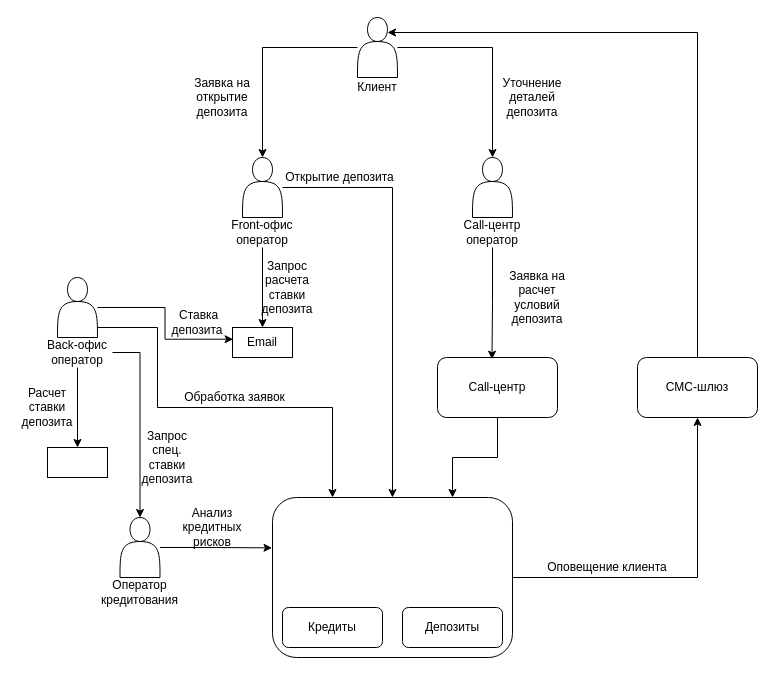
This 775x675 diagram has some shape labels left out. Each missing label, with the box of its shape:
Excel: (46, 446, 108, 478)
АБС: (272, 496, 512, 658)
